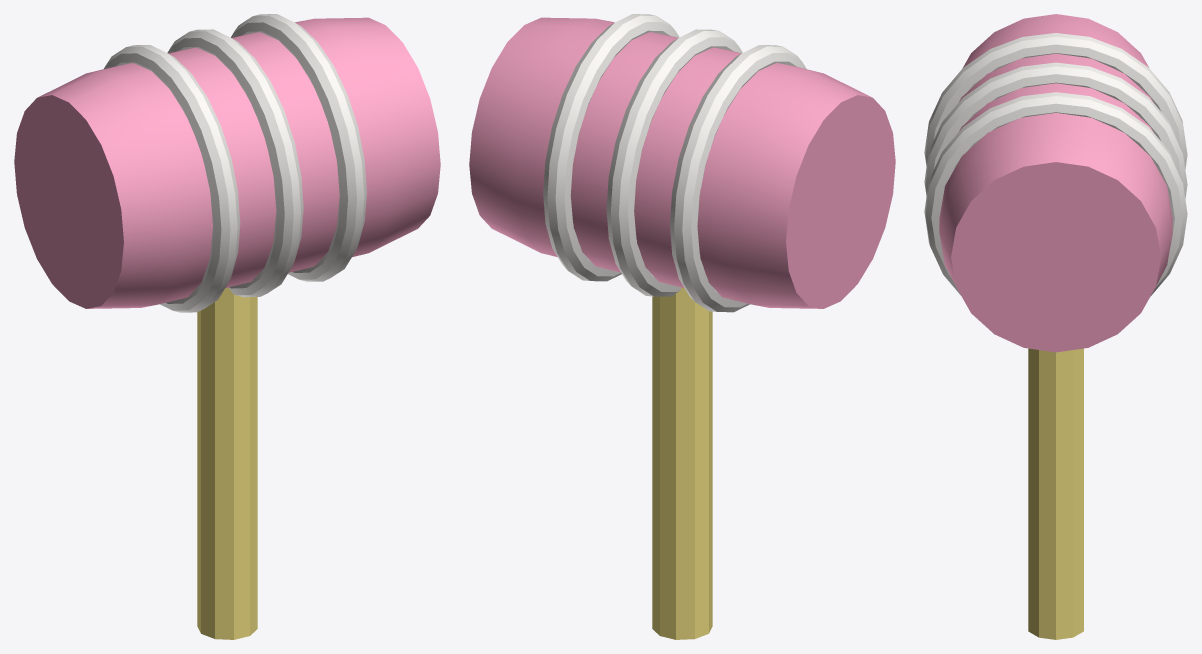
File: ITEM_Hammer.fbx
The picture shows the model from 3 angles, left to right: view 1: azimuth 30°, elevation 25°; view 2: azimuth 150°, elevation 25°; view 3: azimuth 270°, elevation 25°; orthographic projection. The views are drawn at different scales.
Visible parts, largest first — view 1: ITEM_Hammer; view 2: ITEM_Hammer; view 3: ITEM_Hammer.
Part boxes in pixels (x1=…): ITEM_Hammer: x1=14, y1=14, x2=440, y2=639; ITEM_Hammer: x1=469, y1=14, x2=895, y2=639; ITEM_Hammer: x1=924, y1=14, x2=1187, y2=639.
Size of the model in its own units: 0.3 by 0.5325 by 0.2254.
